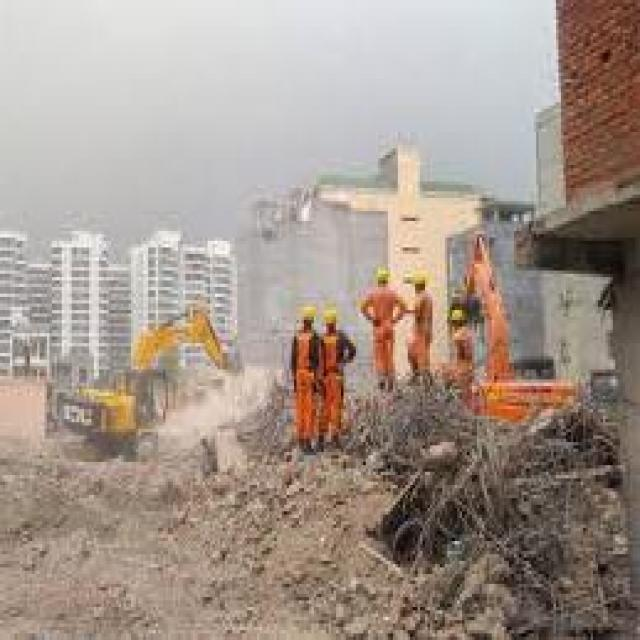Reflective-Jacket: (368, 287, 400, 340), (289, 326, 319, 379), (316, 330, 346, 383)
Safety-Helmet: (368, 261, 396, 287), (296, 300, 318, 327), (321, 303, 341, 330)
